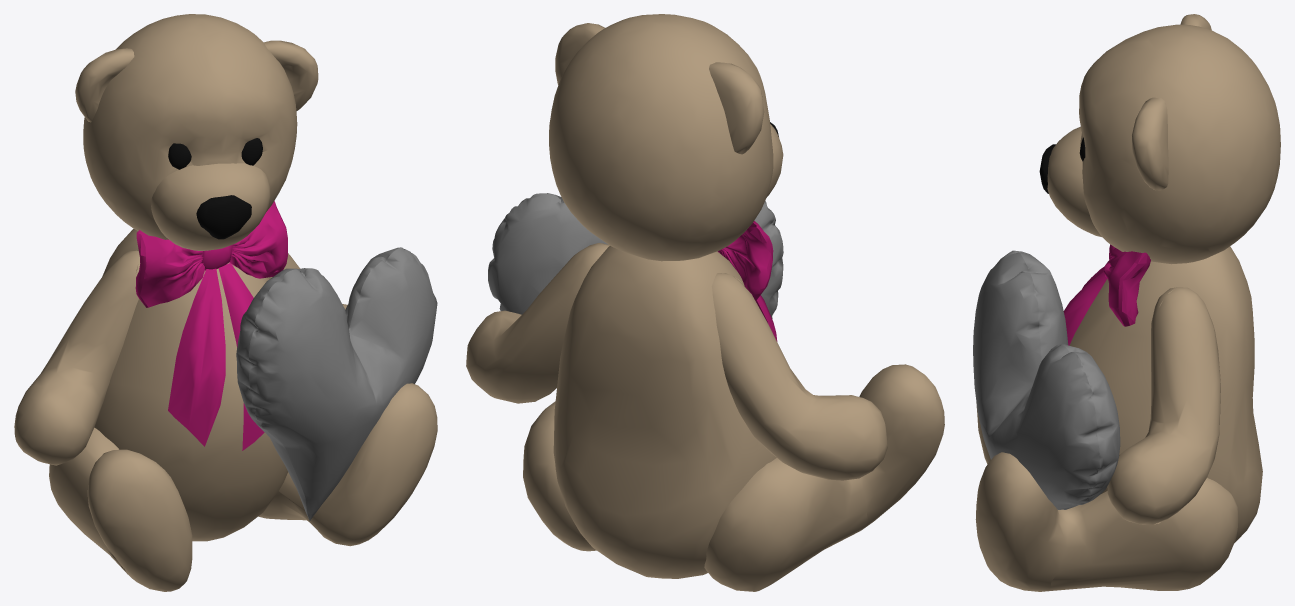
File: bear.FBX
The picture shows the model from 3 angles, left to right: view 1: azimuth 30°, elevation 25°; view 2: azimuth 150°, elevation 25°; view 3: azimuth 270°, elevation 25°; orthographic projection. The views are drawn at different scales.
Visible parts, largest first — view 1: bear hart; view 2: bear hart; view 3: bear hart.
Part boxes in pixels (x1=…): bear hart: x1=14, y1=14, x2=437, y2=591; bear hart: x1=466, y1=14, x2=944, y2=591; bear hart: x1=973, y1=14, x2=1280, y2=591.
Size of the model in its own units: 67.89 by 85.16 by 44.94.
